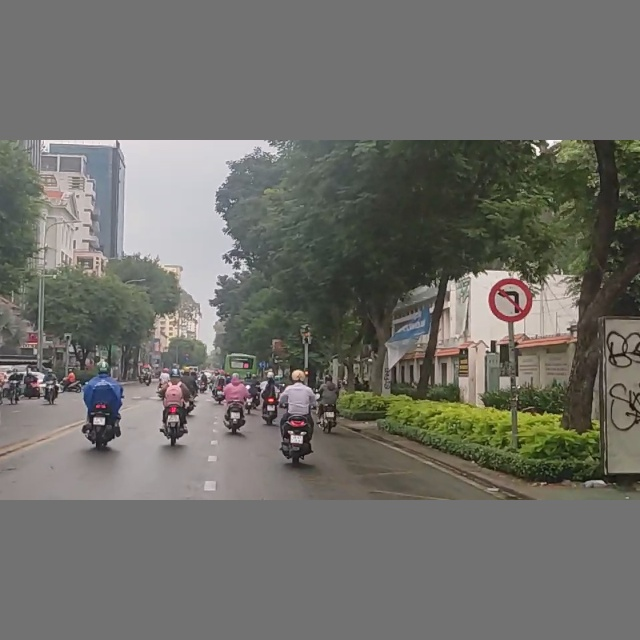P.123a: (488, 279, 533, 323)
